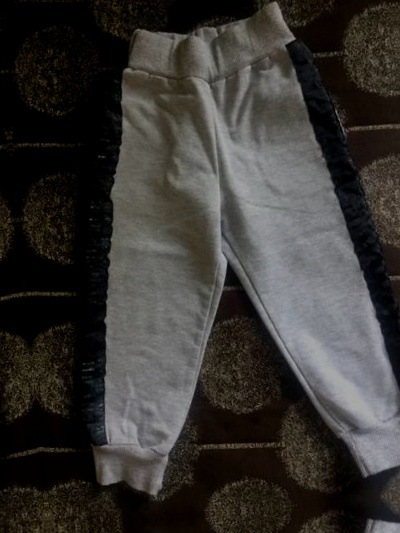Pants: (43, 0, 400, 492), (98, 526, 400, 533), (396, 0, 400, 456)
